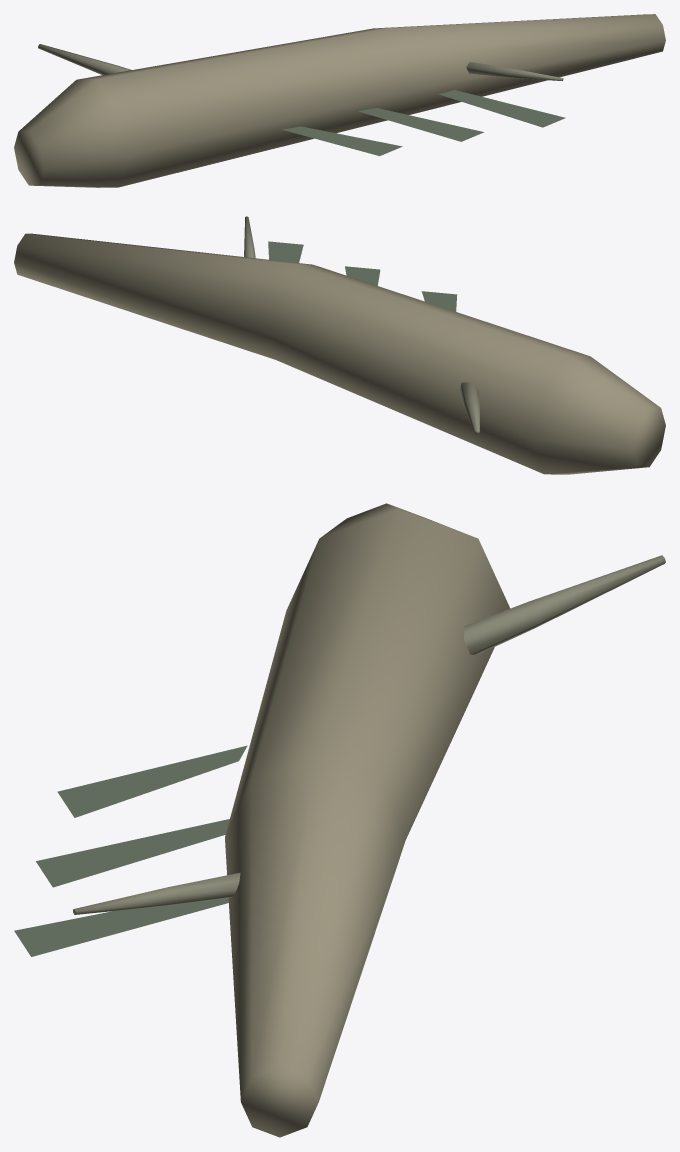
The model's file is alc_driftwood.glb.
3 views of the same model, one above another, from view 1: azimuth 30°, elevation 25°; view 2: azimuth 150°, elevation 25°; view 3: azimuth 270°, elevation 25° (orthographic). The views are drawn at different scales.
Parts seen in each view (by area): view 1: alc_driftwood; view 2: alc_driftwood; view 3: alc_driftwood.
Part boxes in pixels (bbox=[...]): alc_driftwood: bbox=[14, 14, 665, 187]; alc_driftwood: bbox=[14, 216, 665, 474]; alc_driftwood: bbox=[14, 503, 665, 1137].
Bounding box in the file's own units: 1.5 × 0.2631 × 0.7531.
